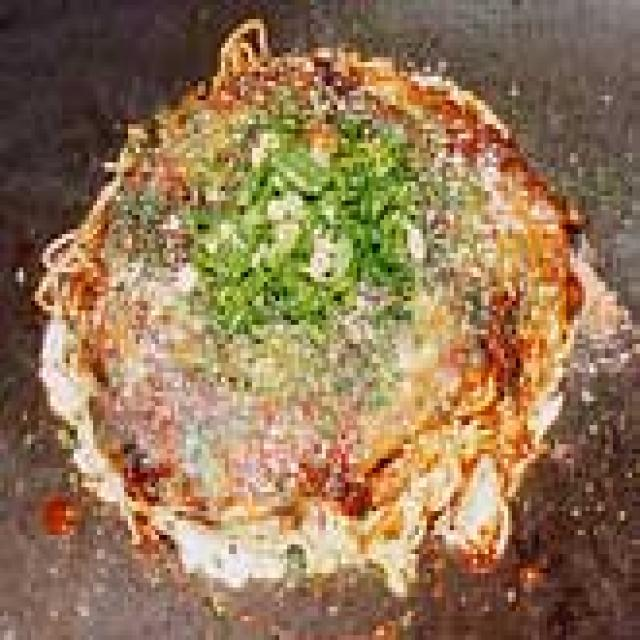蛋糕甜品: (62, 48, 574, 578)
